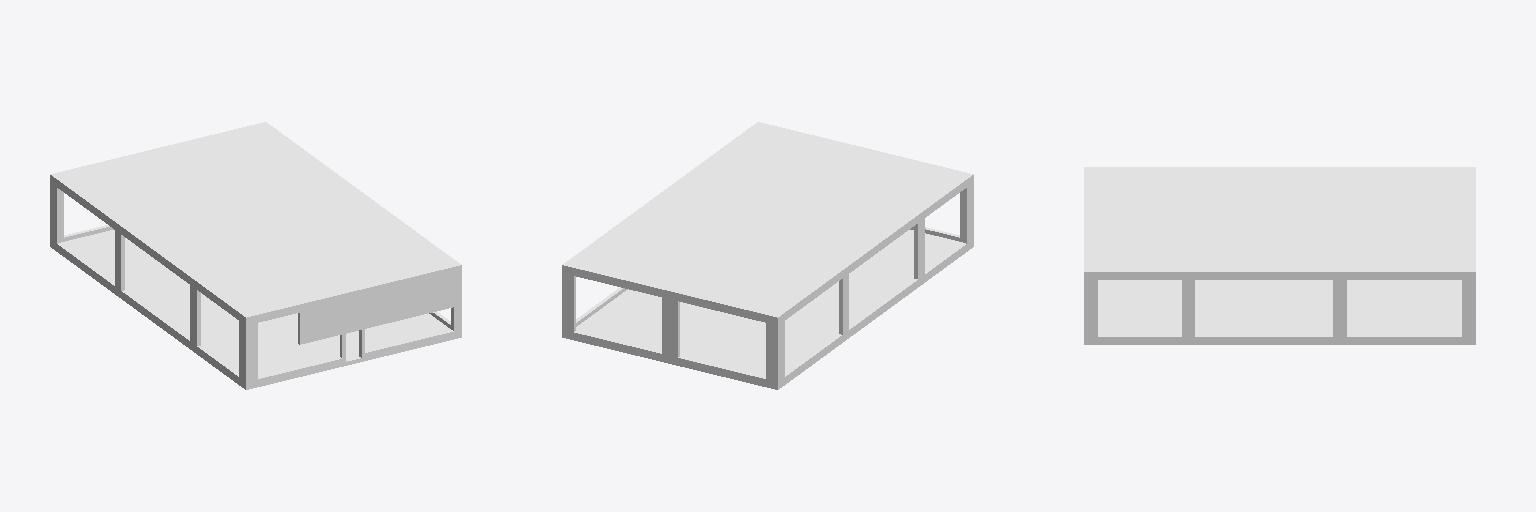
Rendered from cars-showroom.obj.
The picture shows the model from 3 angles: view 1: azimuth 30°, elevation 25°; view 2: azimuth 150°, elevation 25°; view 3: azimuth 270°, elevation 25°; orthographic projection.
Visible parts, largest first — view 1: object 1; view 2: object 1; view 3: object 1.
Part boxes in pixels (left/top/right/bottom): object 1: left=50, top=122, right=461, bottom=389; object 1: left=562, top=122, right=973, bottom=389; object 1: left=1084, top=167, right=1475, bottom=344.
Bounding box in the file's own units: 5.6 × 1.8 × 8.8.